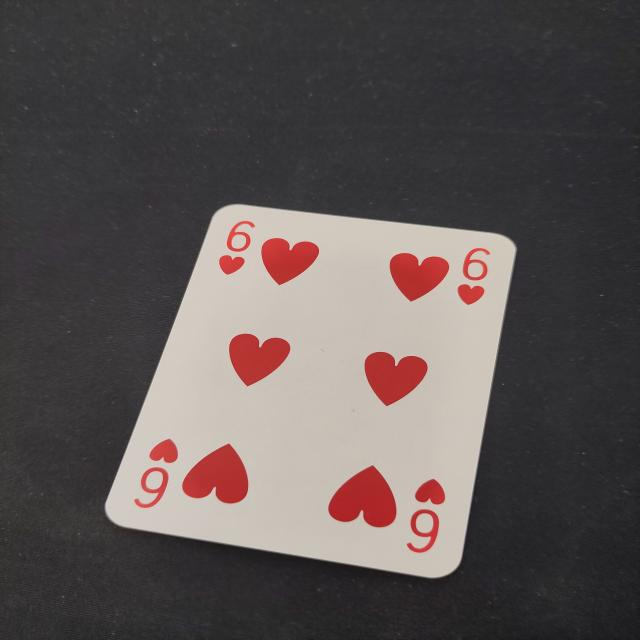6h: (121, 435, 186, 514), (398, 472, 452, 562), (446, 246, 496, 312), (214, 217, 262, 285)
